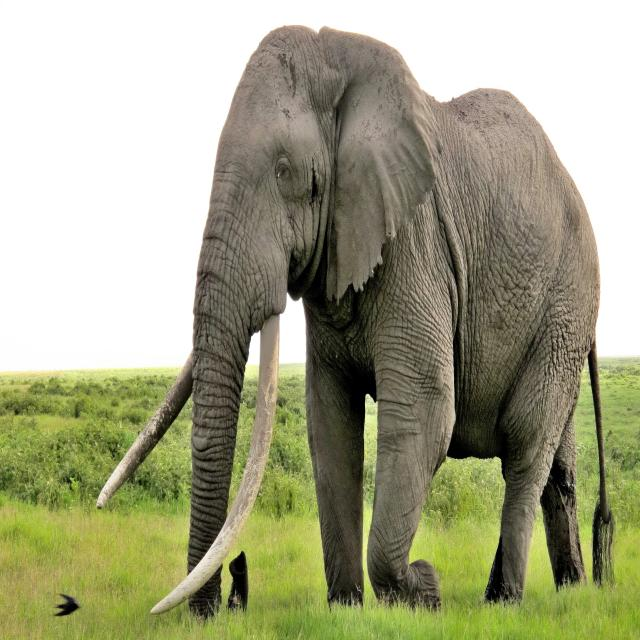elephant: (97, 26, 615, 617)
